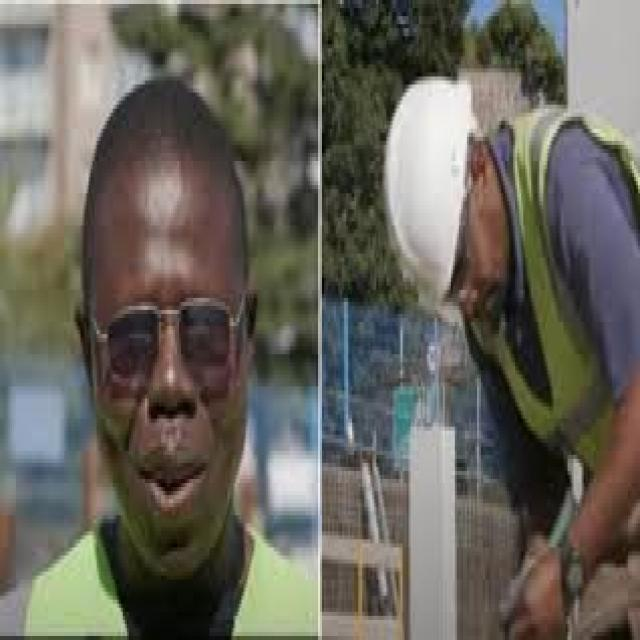Reflective-Jacket: (455, 85, 636, 495)
Safety-Helmet: (368, 56, 483, 334)
